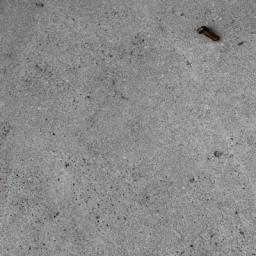FOD: (196, 23, 223, 47)
